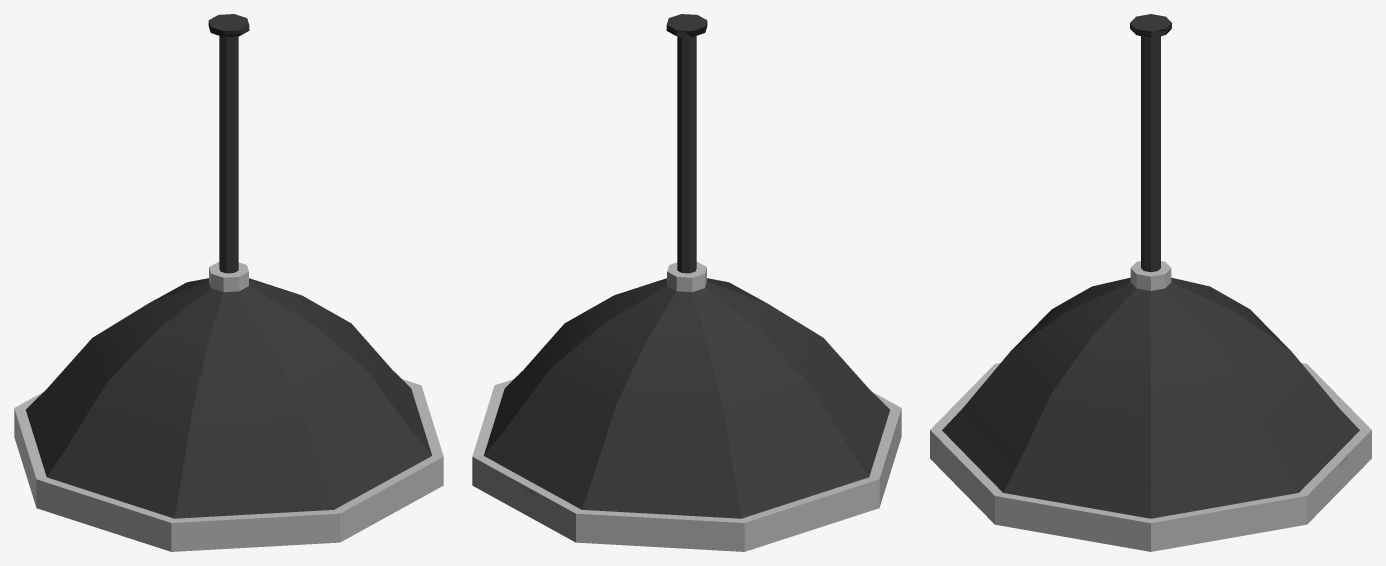
File: Hanging_Light.fbx
3 renders of one model, left to right at view 1: azimuth 30°, elevation 25°; view 2: azimuth 150°, elevation 25°; view 3: azimuth 270°, elevation 25°, orthographic.
Parts seen in each view (by area): view 1: pCylinder1; view 2: pCylinder1; view 3: pCylinder1.
Boxes of the visible parts, x1,y1,x2,y2 form: pCylinder1: [14, 14, 443, 551]; pCylinder1: [472, 14, 901, 551]; pCylinder1: [930, 14, 1371, 551].
Size of the model in its own units: 248 by 270 by 248.
Materials: 1 (1 with a texture image).
